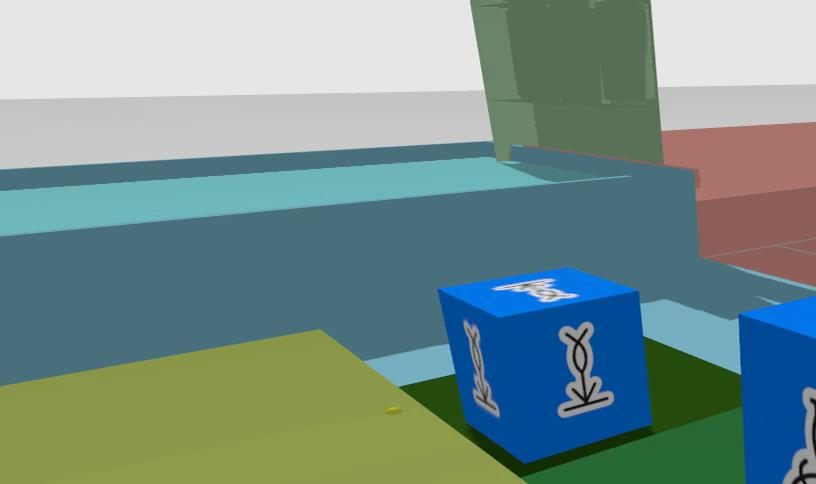KFS_REAL: (439, 268, 650, 462), (739, 296, 816, 484), (558, 322, 614, 416), (463, 320, 500, 417), (782, 387, 816, 484), (494, 278, 577, 302)
